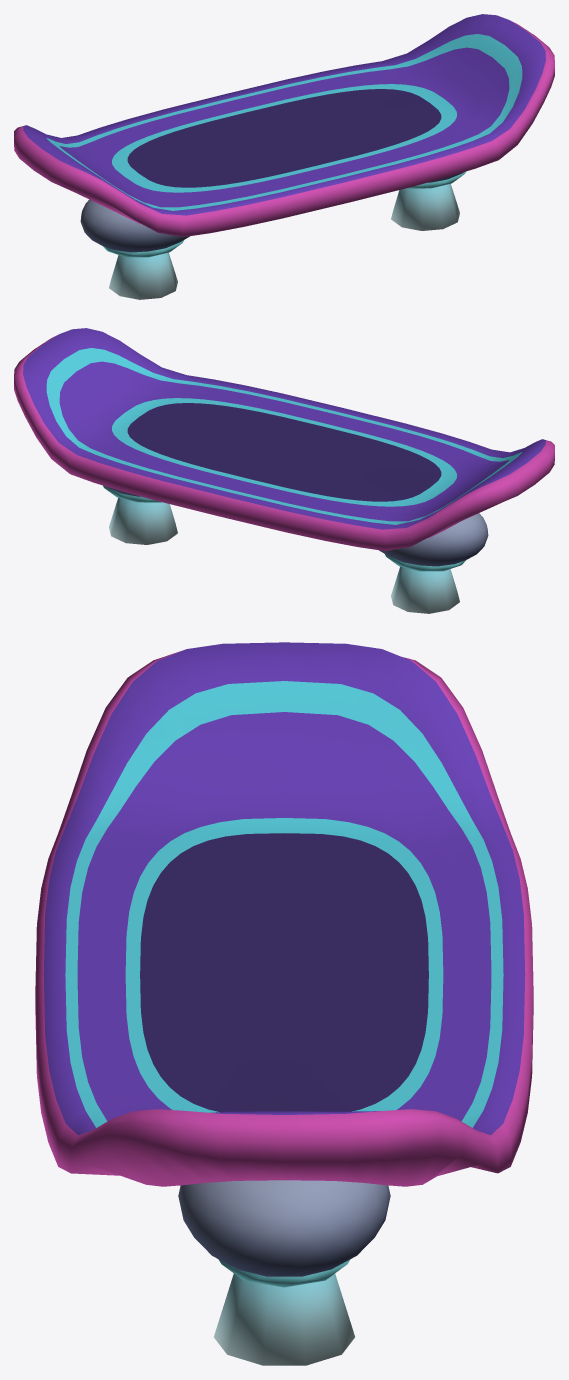
File: pet_mount_hoverboard.fbx
The picture shows the model from 3 angles, top to bottom: view 1: azimuth 30°, elevation 25°; view 2: azimuth 150°, elevation 25°; view 3: azimuth 270°, elevation 25°; orthographic projection. The views are drawn at different scales.
Parts seen in each view (by area): view 1: pet_mount_hoverboard; view 2: pet_mount_hoverboard; view 3: pet_mount_hoverboard.
Boxes of the visible parts, box(x1,y1,x2,y2) form: pet_mount_hoverboard: box(14, 14, 554, 299); pet_mount_hoverboard: box(14, 328, 554, 613); pet_mount_hoverboard: box(35, 642, 533, 1365).
Bounding box in the file's own units: 3.27 × 1 × 1.41.
